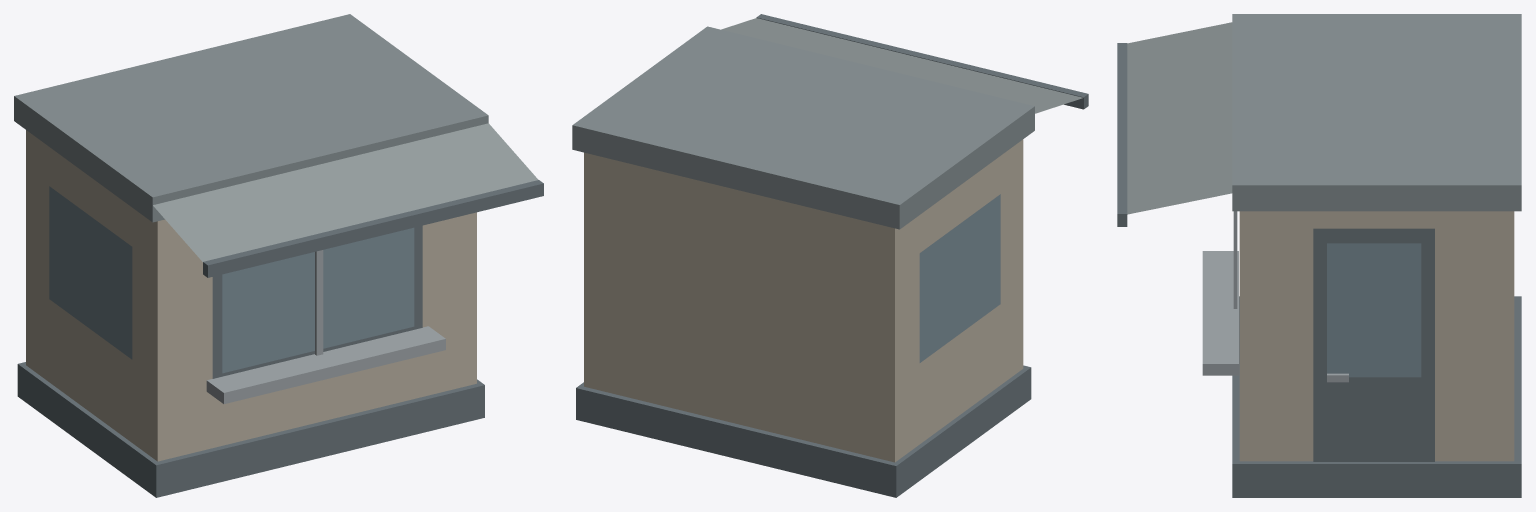
Rendered from kiosk_1.glb.
3 renders of one model, left to right at view 1: azimuth 30°, elevation 25°; view 2: azimuth 150°, elevation 25°; view 3: azimuth 270°, elevation 25°, orthographic. The views are drawn at different scales.
Parts seen in each view (by area): view 1: kiosk_1; view 2: kiosk_1; view 3: kiosk_1.
Part boxes in pixels (x1=…): kiosk_1: x1=14, y1=14, x2=543, y2=497; kiosk_1: x1=572, y1=14, x2=1088, y2=497; kiosk_1: x1=1117, y1=14, x2=1521, y2=497.
Bounding box in the file's own units: 2.8 × 2.4 × 2.8.
